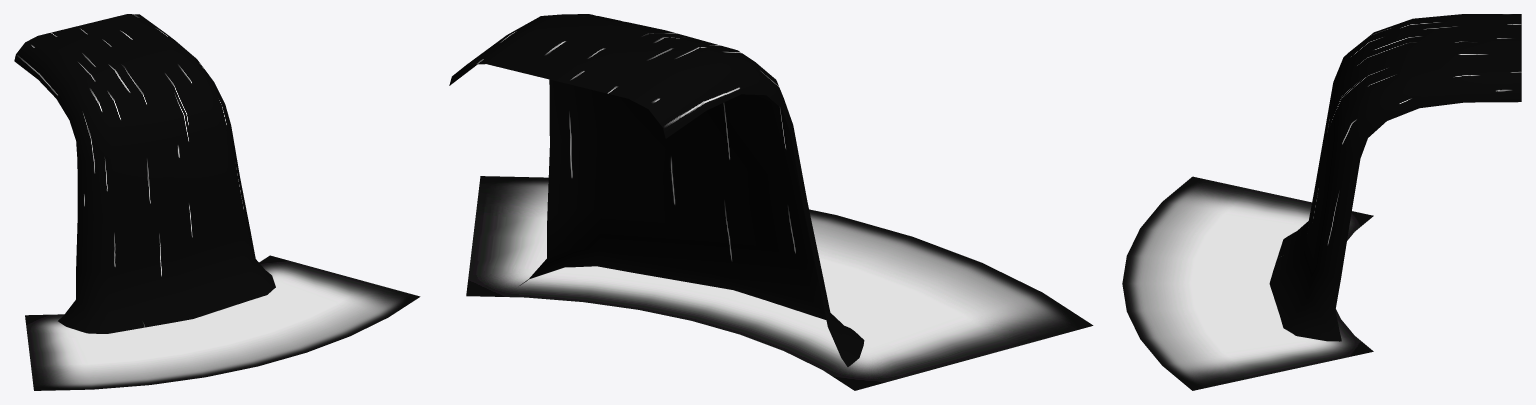
The model's file is P_Waterfall4.obj.
3 renders of one model, left to right at view 1: azimuth 30°, elevation 25°; view 2: azimuth 150°, elevation 25°; view 3: azimuth 270°, elevation 25°, orthographic. The views are drawn at different scales.
Bounding box in the file's own units: 12.81 × 6.79 × 10.08.
